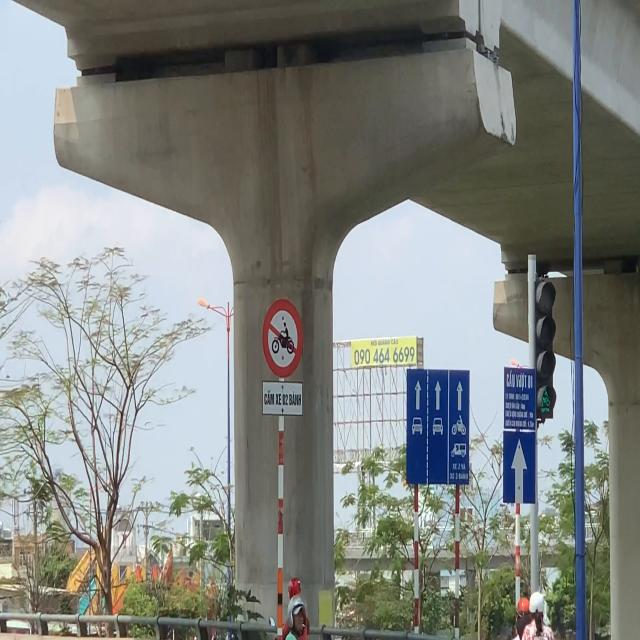Cam con lai: (261, 297, 304, 379)
Chi dan: (502, 429, 536, 505)
